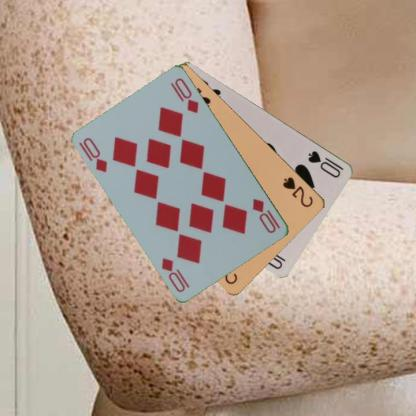10d: (76, 135, 109, 174), (249, 195, 278, 235)
10s: (306, 148, 346, 179)
2s: (280, 174, 315, 208)
